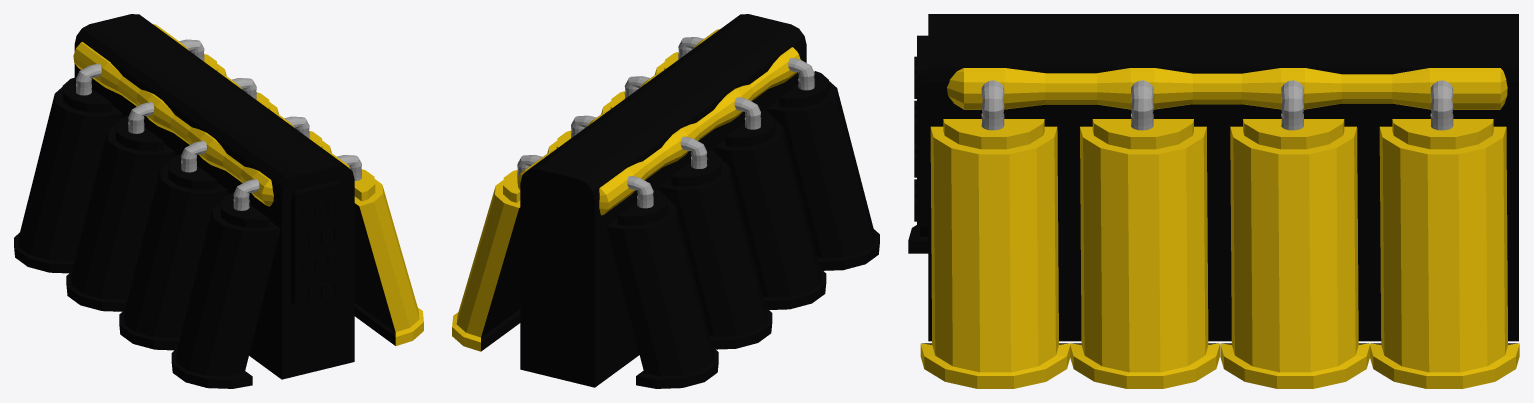
File: TechnoBox.fbx
3 renders of one model, left to right at view 1: azimuth 30°, elevation 25°; view 2: azimuth 150°, elevation 25°; view 3: azimuth 270°, elevation 25°, orthographic. The views are drawn at different scales.
Visible parts, largest first — view 1: TechnoBox; view 2: TechnoBox; view 3: TechnoBox.
Part boxes in pixels (<box>): TechnoBox: <box>14,14,423,388</box>; TechnoBox: <box>452,14,879,388</box>; TechnoBox: <box>908,14,1519,388</box>.
Size of the model in its own units: 1556 by 1231 by 2393.
